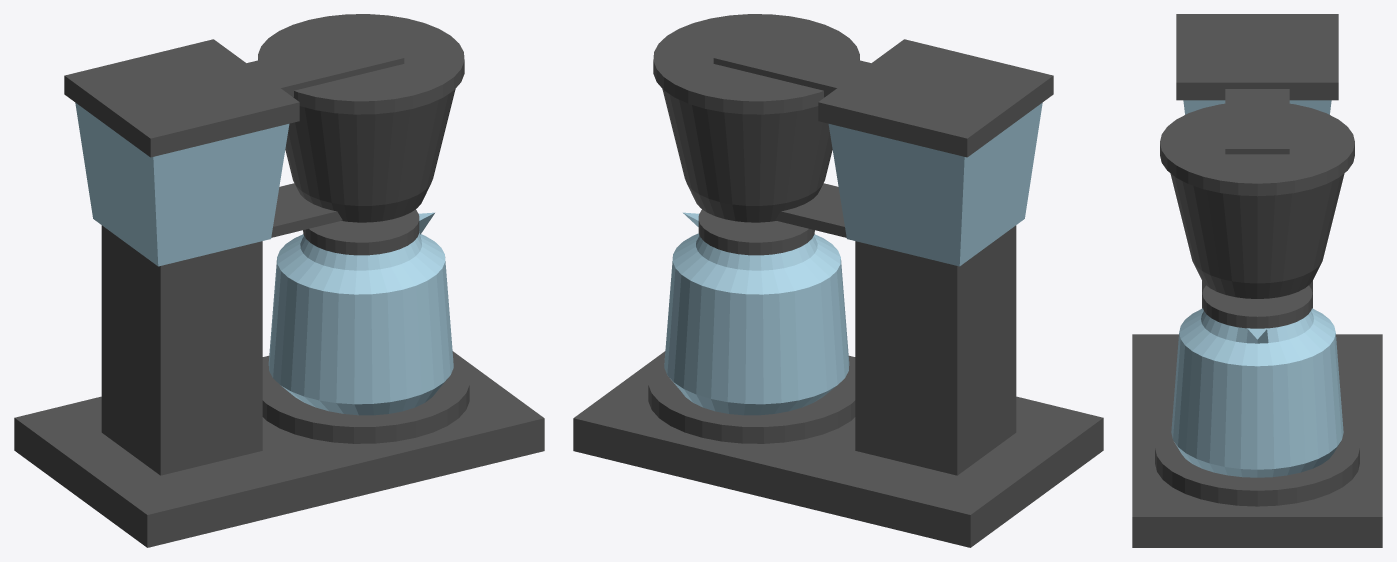
The model's file is Coffee_Maker.fbx.
3 renders of one model, left to right at view 1: azimuth 30°, elevation 25°; view 2: azimuth 150°, elevation 25°; view 3: azimuth 270°, elevation 25°, orthographic. The views are drawn at different scales.
Visible parts, largest first — view 1: Cube, Cube.001, Cylinder.001, Cube.002, Cube.003, Cylinder.003, Cylinder.004, Cylinder.002, Cube.004, Cylinder, Cube.005; view 2: Cube, Cube.001, Cylinder.001, Cube.002, Cube.003, Cylinder.003, Cylinder.004, Cylinder.002, Cube.004, Cylinder, Cube.005; view 3: Cylinder.001, Cube, Cylinder.003, Cube.003, Cylinder.004, Cylinder.002, Cube.004, Cylinder, Cube.002.
Boxes of the visible parts, left/top/right/bottom form: Cube: left=14, top=351, right=544, bottom=547; Cube.001: left=101, top=225, right=262, bottom=475; Cylinder.001: left=268, top=212, right=453, bottom=415; Cube.002: left=75, top=103, right=289, bottom=266; Cube.003: left=64, top=39, right=299, bottom=157; Cylinder.003: left=285, top=89, right=455, bottom=222; Cylinder.004: left=258, top=14, right=464, bottom=114; Cylinder.002: left=262, top=357, right=469, bottom=443; Cube.004: left=247, top=33, right=404, bottom=97; Cylinder: left=303, top=209, right=419, bottom=255; Cube.005: left=271, top=183, right=342, bottom=237; Cube: left=573, top=351, right=1103, bottom=547; Cube.001: left=855, top=225, right=1016, bottom=475; Cylinder.001: left=664, top=212, right=849, bottom=415; Cube.002: left=828, top=103, right=1042, bottom=266; Cube.003: left=818, top=39, right=1053, bottom=157; Cylinder.003: left=662, top=89, right=832, bottom=222; Cylinder.004: left=653, top=14, right=859, bottom=114; Cylinder.002: left=648, top=357, right=855, bottom=443; Cube.004: left=713, top=33, right=870, bottom=97; Cylinder: left=698, top=209, right=814, bottom=255; Cube.005: left=775, top=183, right=846, bottom=237; Cylinder.001: left=1171, top=308, right=1343, bottom=477; Cube: left=1132, top=334, right=1382, bottom=547; Cylinder.003: left=1170, top=173, right=1344, bottom=298; Cube.003: left=1176, top=14, right=1338, bottom=100; Cylinder.004: left=1160, top=103, right=1354, bottom=196; Cylinder.002: left=1155, top=424, right=1359, bottom=506; Cube.004: left=1225, top=89, right=1289, bottom=154; Cylinder: left=1202, top=285, right=1312, bottom=328; Cube.002: left=1183, top=100, right=1331, bottom=114.
Bounding box in the file's own units: 309 × 287 × 179.
